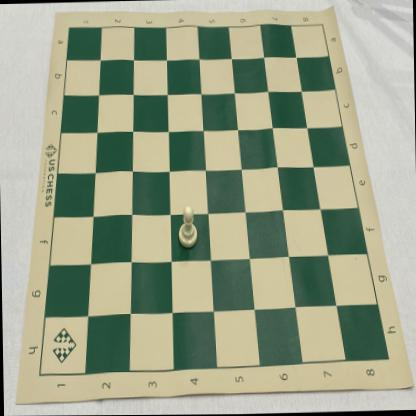white-pawn: (177, 204, 198, 249)
